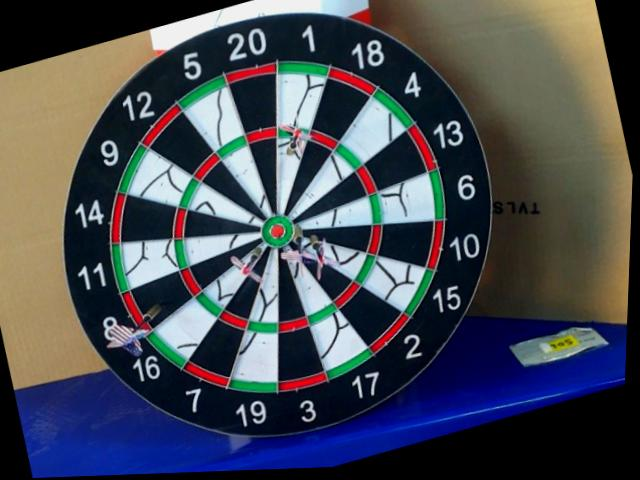single_1: (278, 140, 305, 200)
single_10: (306, 225, 375, 254)
single_16: (203, 246, 263, 306)
single_6: (297, 196, 372, 231)
single_8: (135, 274, 193, 327)
